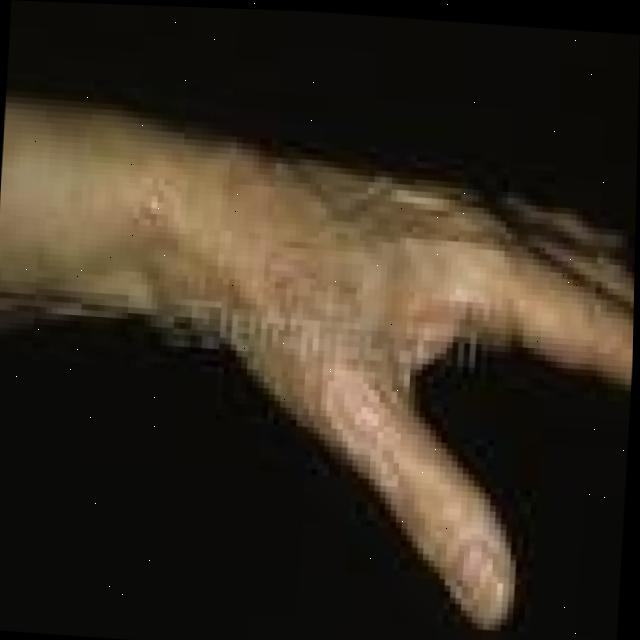Melasma: (127, 87, 453, 497)
